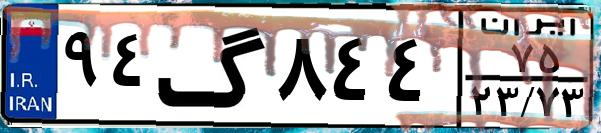2: (470, 70, 495, 125)
3: (560, 70, 590, 125), (495, 70, 520, 125)
4: (385, 28, 445, 110), (330, 28, 385, 110), (110, 28, 156, 98)
5: (537, 27, 568, 80)
7: (508, 27, 537, 80), (535, 70, 560, 125)
8: (270, 28, 330, 110)
9: (57, 26, 110, 100)
گ: (156, 12, 270, 120)
